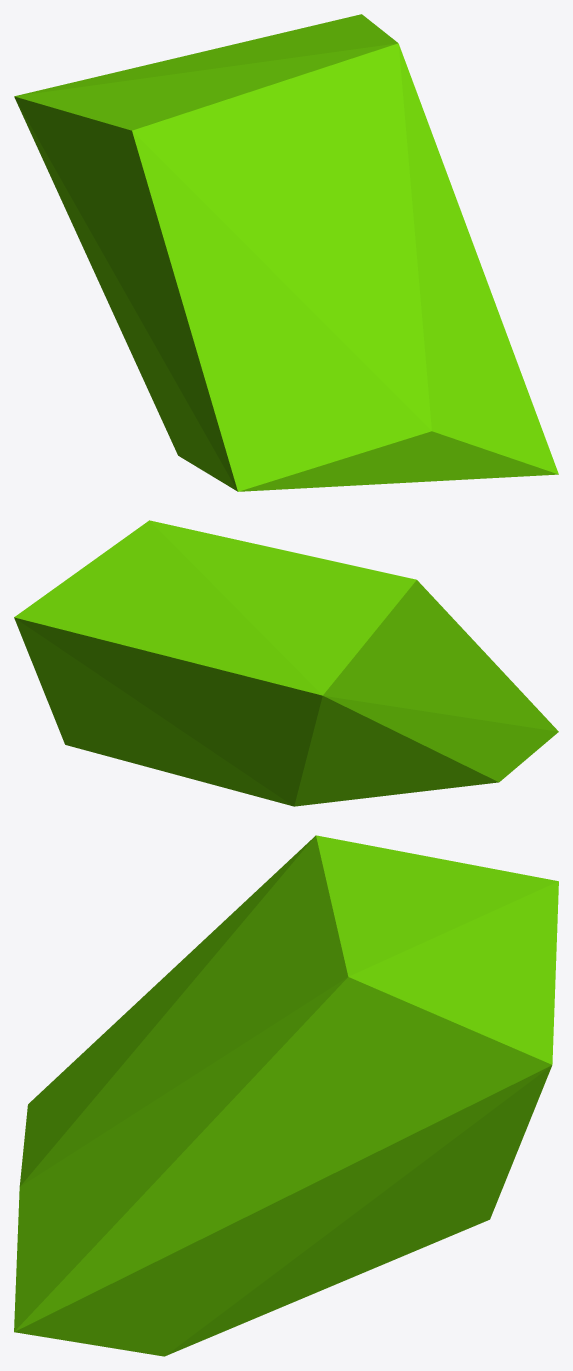
Rendered from torso_convex_piece_033.obj.
3 views of the same model, one above another, from view 1: azimuth 30°, elevation 25°; view 2: azimuth 150°, elevation 25°; view 3: azimuth 270°, elevation 25° (orthographic). The views are drawn at different scales.
Size of the model in its own units: 0.061 by 0.0549 by 0.0724.
